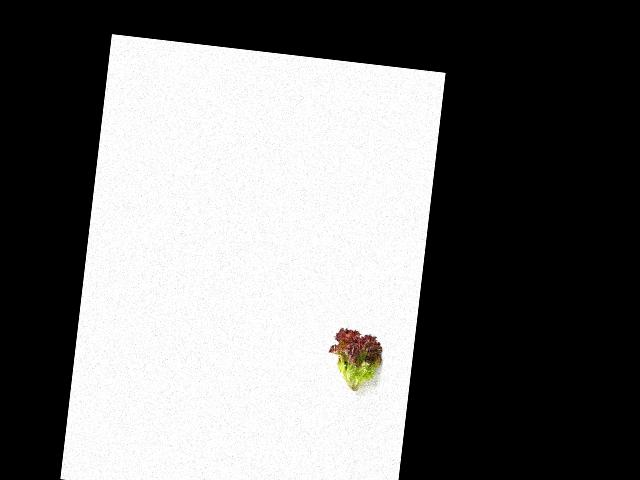lettuce: (325, 323, 386, 401)
